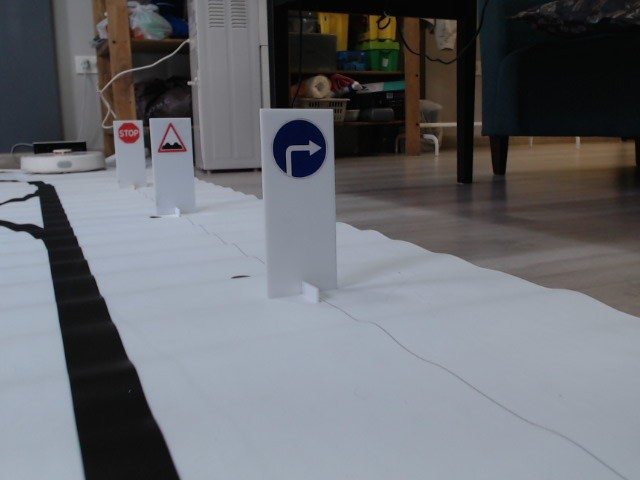Nerov: (155, 122, 188, 154)
Right: (272, 118, 327, 178)
Stop: (118, 121, 140, 143)
